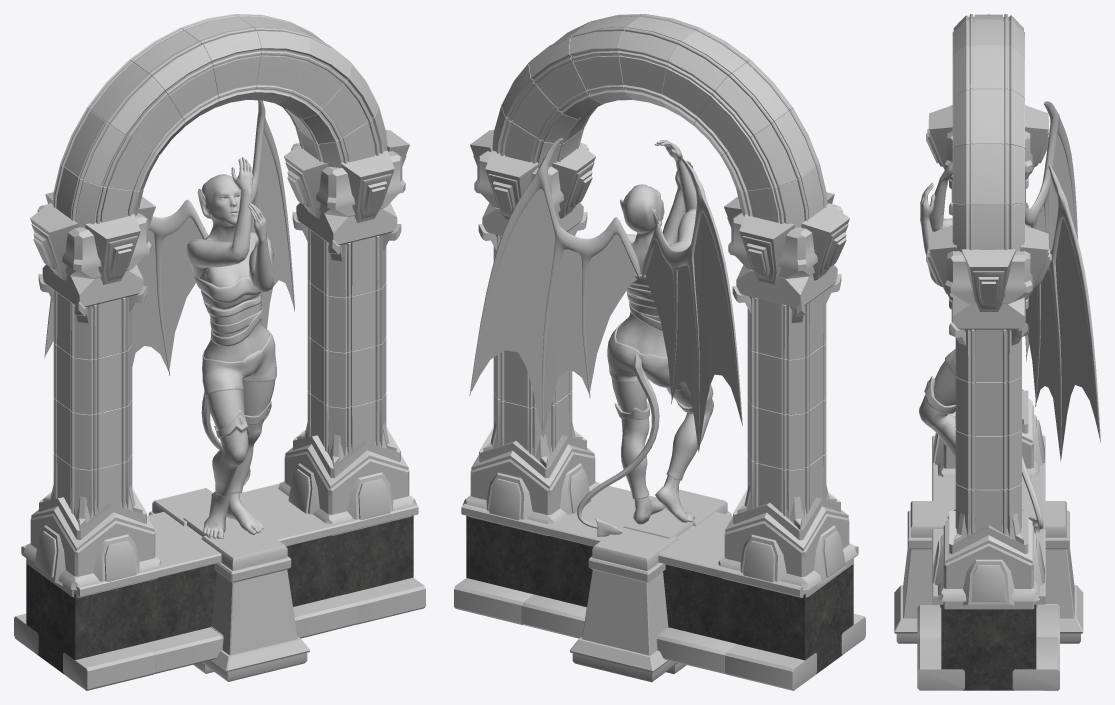
Rendered from ornamental test a.fbx.
The picture shows the model from 3 angles, left to right: view 1: azimuth 30°, elevation 25°; view 2: azimuth 150°, elevation 25°; view 3: azimuth 270°, elevation 25°; orthographic projection. The views are drawn at different scales.
Visible parts, largest first — view 1: Cube.649, Cube.648, CC_Base_Body.031, Cube.699; view 2: Cube.649, Cube.648, Cube.699, CC_Base_Body.031, Cube.698; view 3: Cube.649, Cube.648, Cube.699, CC_Base_Body.031, Cube.698.
Boxes of the visible parts, bbox=[...] form: Cube.649: bbox=[23, 14, 416, 597]; Cube.648: bbox=[14, 483, 425, 690]; CC_Base_Body.031: bbox=[186, 157, 276, 538]; Cube.699: bbox=[44, 100, 294, 375]; Cube.649: bbox=[463, 14, 857, 597]; Cube.648: bbox=[454, 486, 865, 690]; Cube.699: bbox=[469, 138, 742, 452]; CC_Base_Body.031: bbox=[607, 140, 713, 524]; Cube.698: bbox=[577, 350, 659, 536]; Cube.649: bbox=[926, 14, 1051, 609]; Cube.648: bbox=[894, 435, 1083, 690]; Cube.699: bbox=[1025, 101, 1100, 461]; CC_Base_Body.031: bbox=[919, 162, 955, 518]; Cube.698: bbox=[1022, 455, 1043, 533].
Size of the model in its own units: 432 by 707 by 218.
